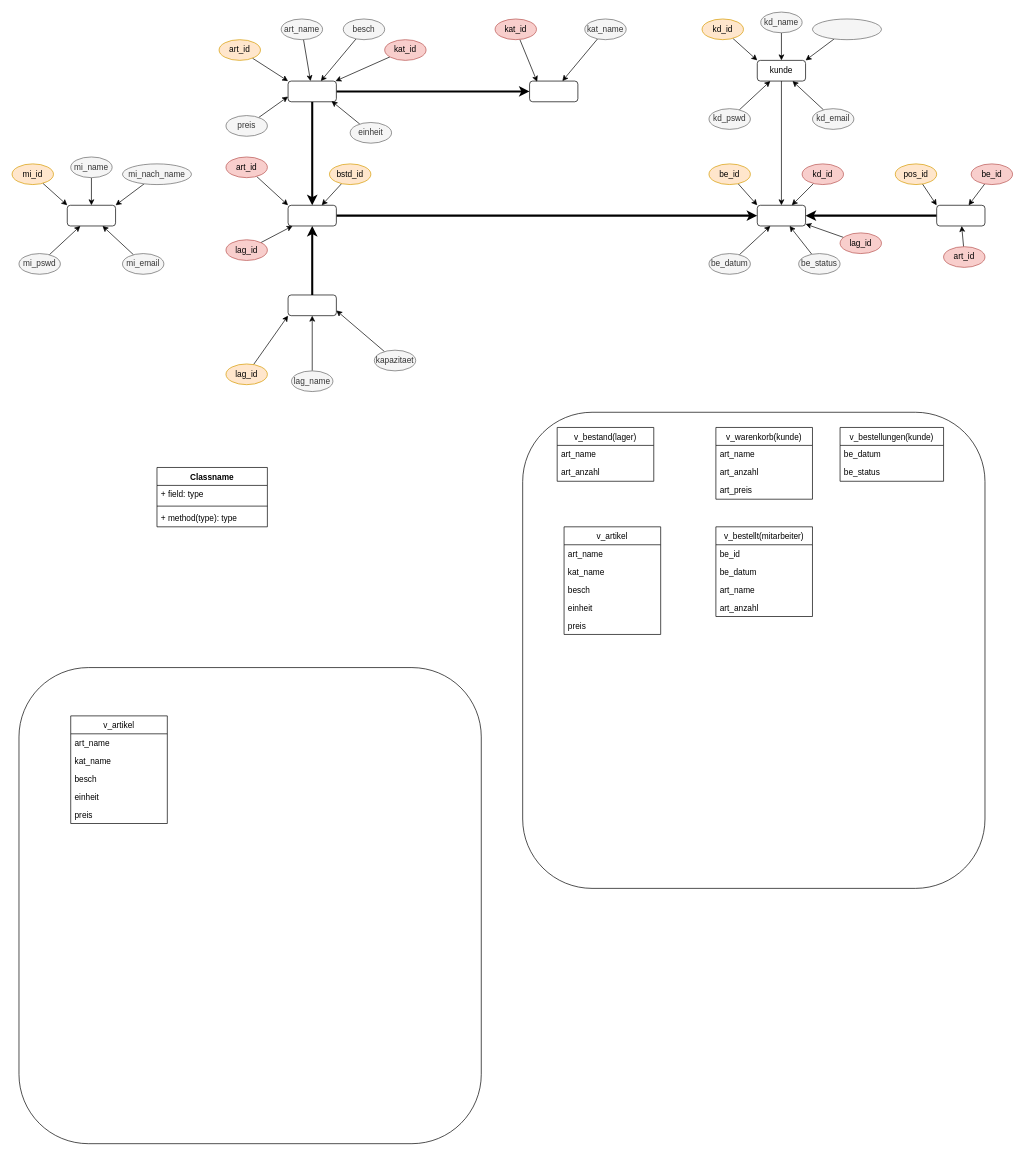
Image size: 1025x1156. Some labels were removed from this diagram. Here are the shapes that lost their labels. From the top down, the centre of each, then its label:
point (846, 29): kd_nach_name
point (311, 91): artikel
point (553, 91): kathegorie
point (91, 215): mitarbeiter
point (311, 215): bestand
point (781, 215): bestellung
point (960, 215): position
point (311, 305): lager
